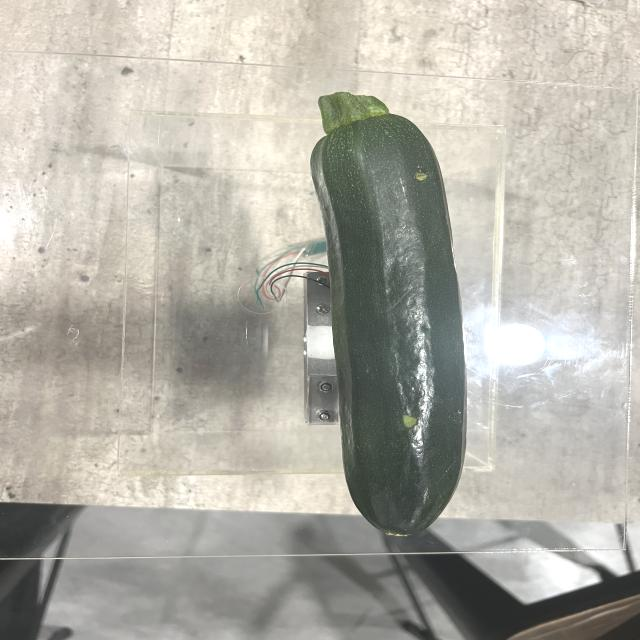zucchini: (305, 94, 469, 540)
